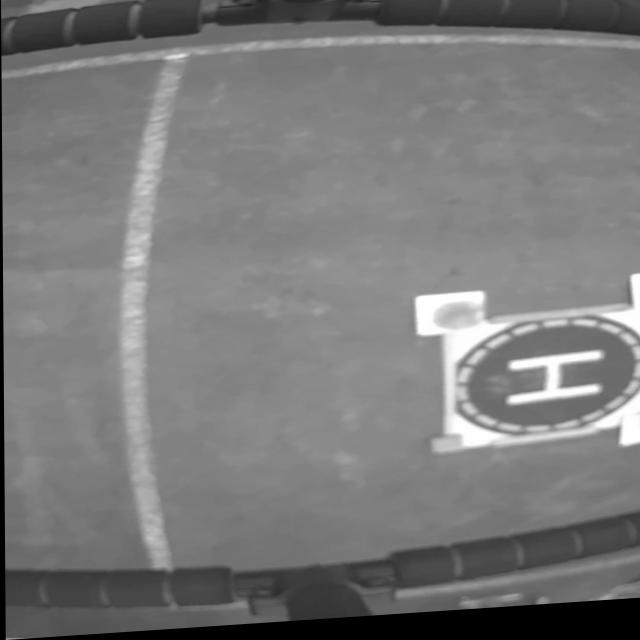Helipad: (503, 358, 604, 413)
